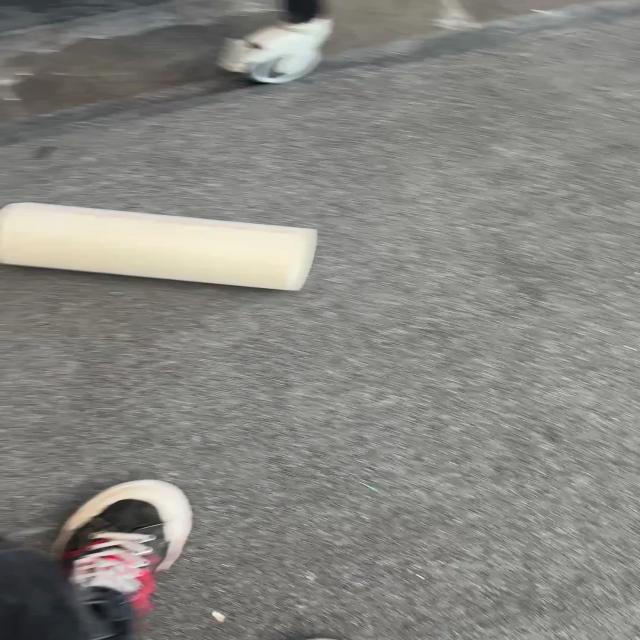Coral: (1, 200, 318, 292)
